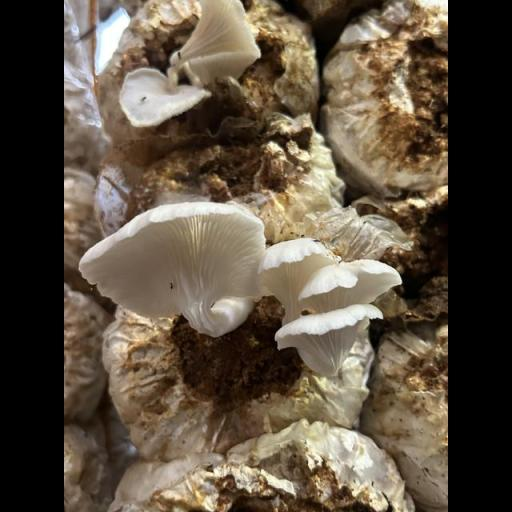White Oyster Mushroom: (85, 200, 403, 376), (119, 1, 262, 128)
